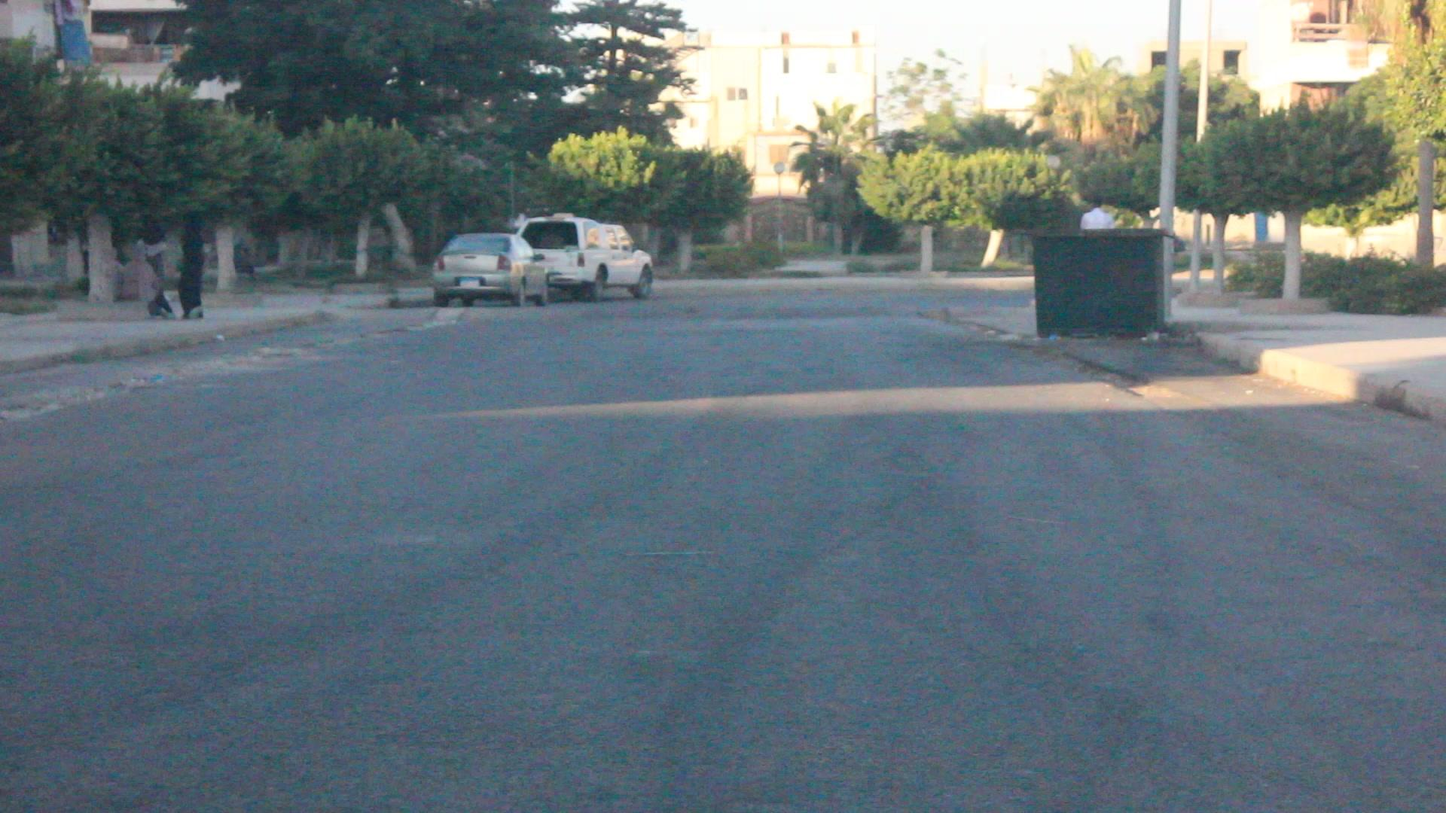Bump: (426, 303, 947, 324)
